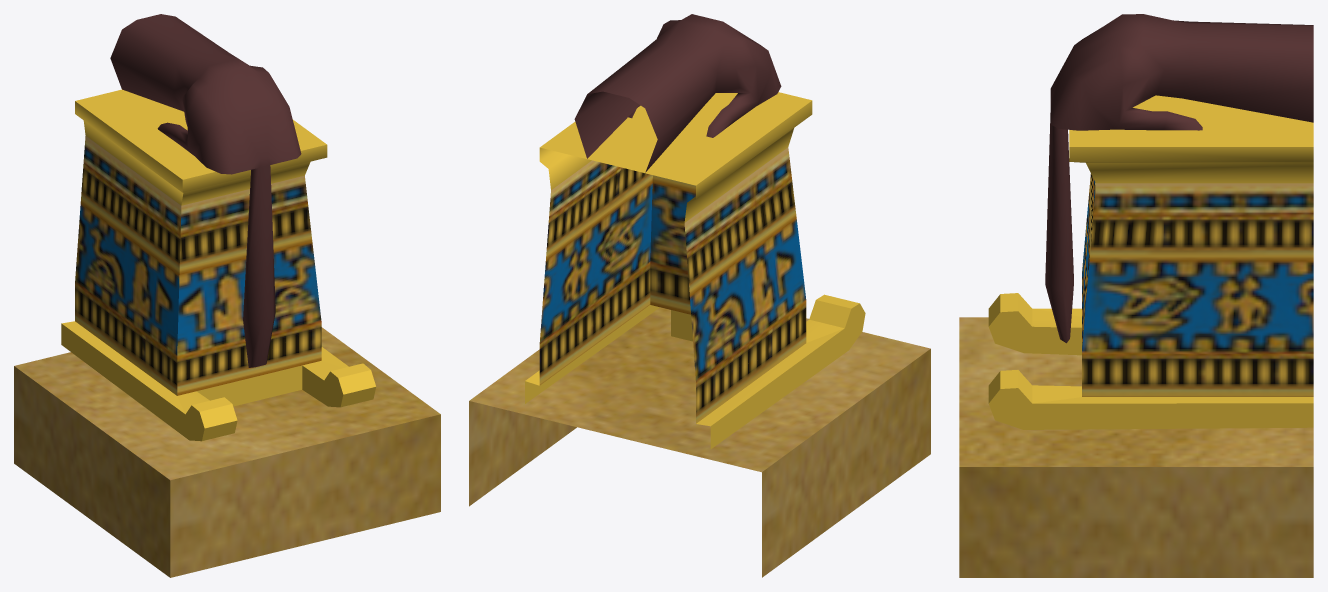
The model's file is egy_anubis_tail_ns.obj.
The picture shows the model from 3 angles, left to right: view 1: azimuth 30°, elevation 25°; view 2: azimuth 150°, elevation 25°; view 3: azimuth 270°, elevation 25°; orthographic projection. The views are drawn at different scales.
Visible parts, largest first — view 1: tile_boundary01; view 2: tile_boundary01; view 3: tile_boundary01.
Boxes of the visible parts, box(x1,y1,x2,y2) form: tile_boundary01: box(14, 14, 440, 577); tile_boundary01: box(469, 14, 930, 577); tile_boundary01: box(959, 14, 1313, 577).
Size of the model in its own units: 1 by 1.49 by 1.
